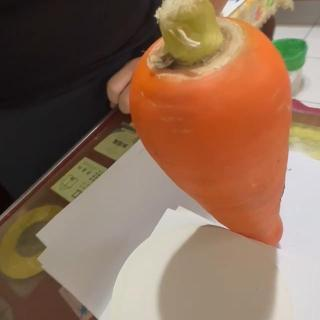carrot: (128, 0, 295, 244)
